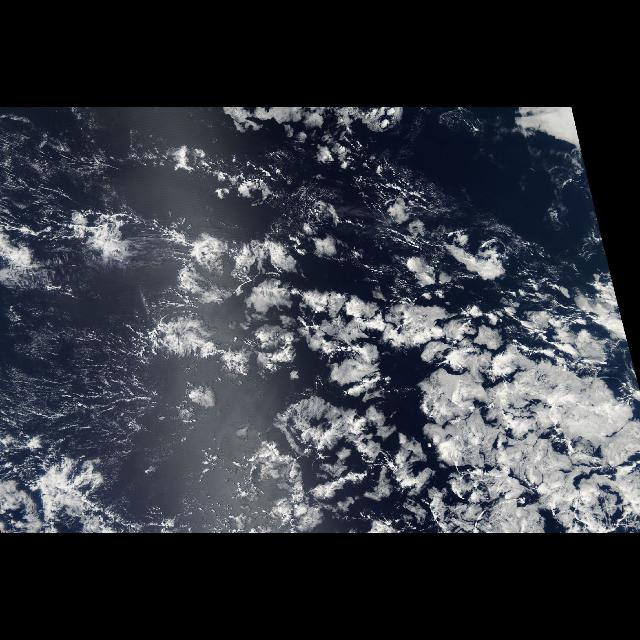Flower: (67, 196, 531, 530)
Sugar: (2, 284, 158, 456)
